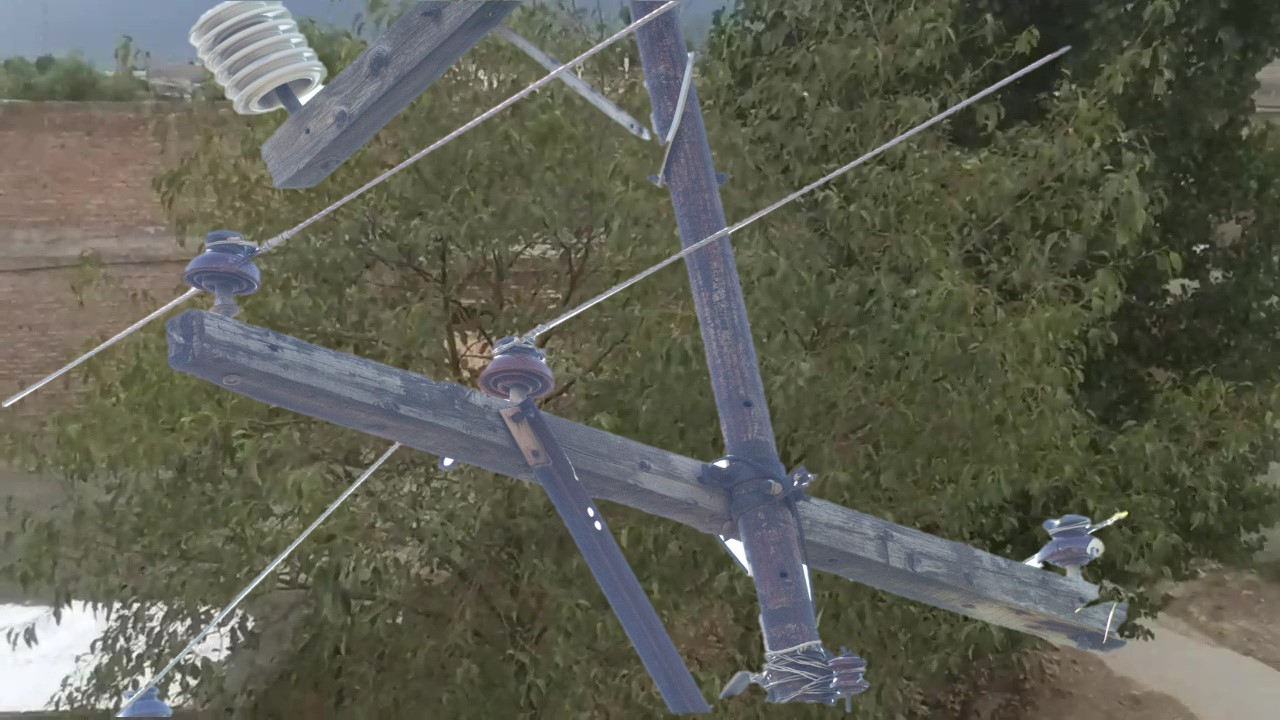defect_pin: (1034, 503, 1114, 573)
insulator_pin: (183, 222, 265, 305), (473, 330, 558, 404)
